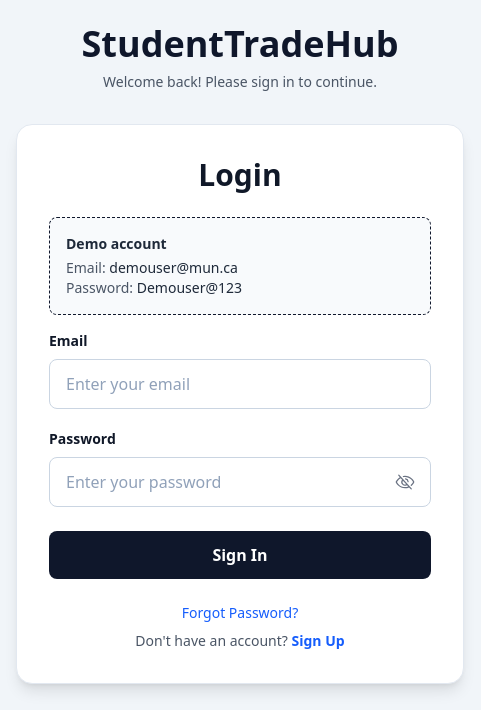
Login Component › shows error message on login failure
Type "test@example.com" into the field labelled "Email" at (240, 384), box [49, 359, 431, 409]
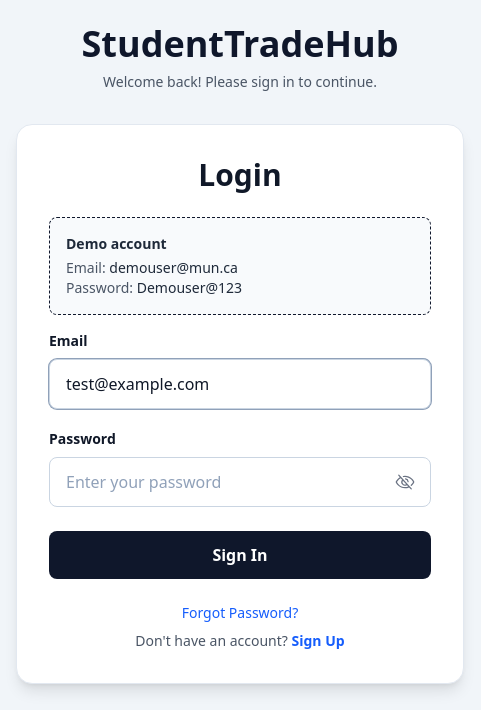
Type "wrongpassword" into the password field labelled "Password" at (240, 482), box [49, 457, 431, 507]
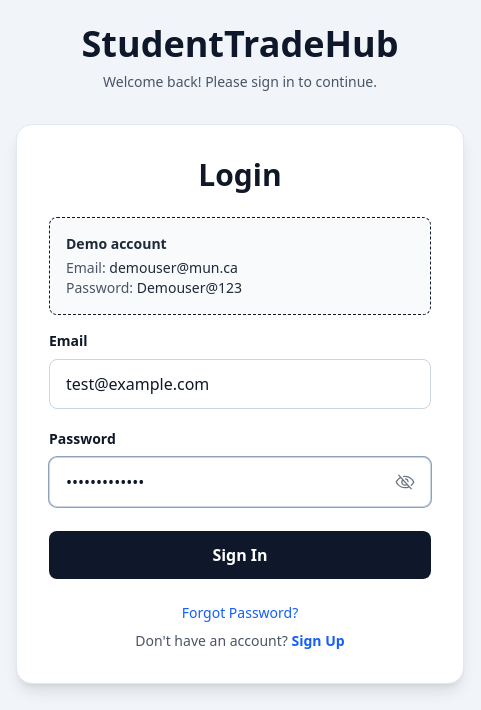
Click the button "Sign In" at (240, 555), box [49, 531, 431, 579]
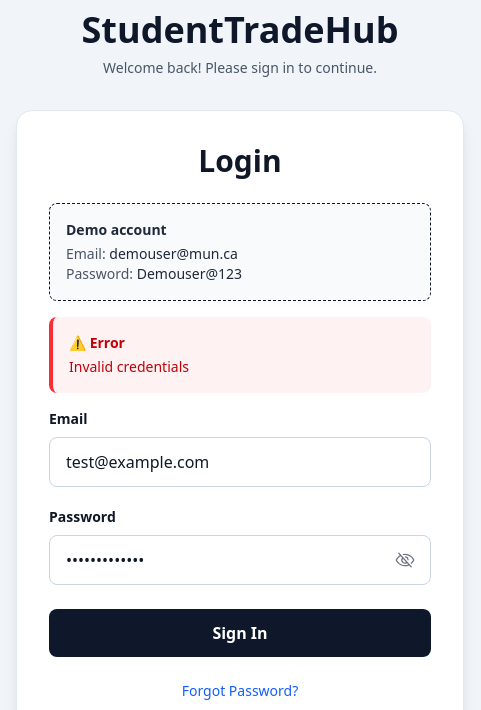
Expected: the text "Invalid credentials" is shown, [69, 357, 189, 376]
